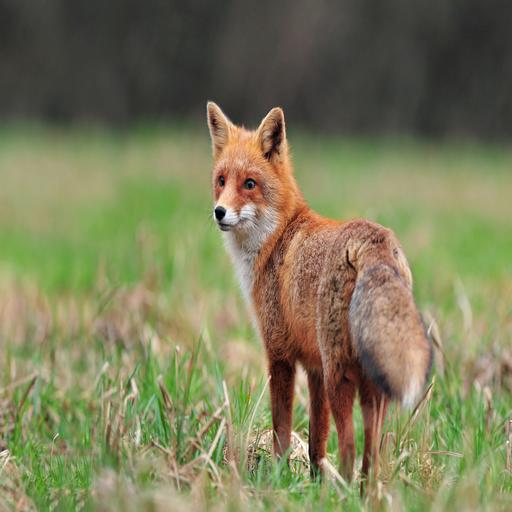Fox: (195, 99, 435, 500)
